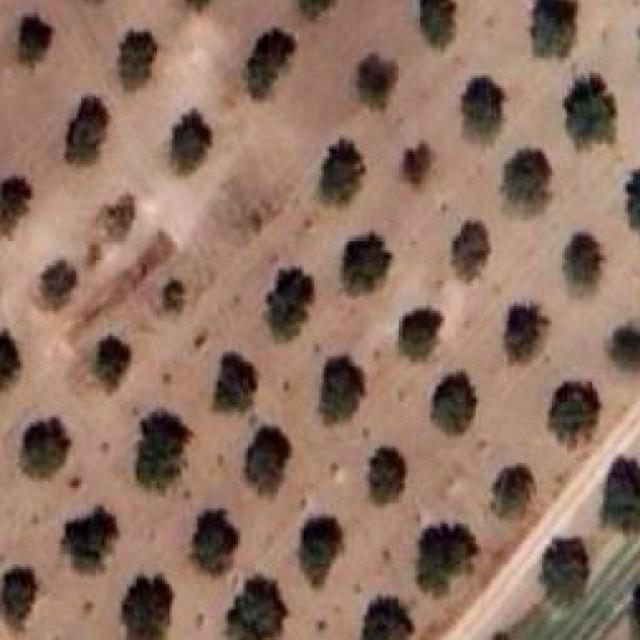Tree: (416, 524, 478, 596), (134, 411, 189, 492), (224, 576, 286, 640), (61, 506, 119, 574), (563, 73, 615, 147), (246, 27, 296, 100), (546, 382, 599, 448), (264, 268, 311, 340), (121, 574, 172, 640), (542, 538, 590, 606), (244, 428, 291, 497), (189, 508, 238, 574), (319, 356, 365, 426), (319, 138, 365, 205), (297, 516, 341, 586), (21, 417, 71, 478), (430, 372, 476, 436), (345, 233, 392, 295), (602, 457, 640, 533), (65, 96, 108, 162), (169, 109, 210, 174), (502, 149, 552, 202), (212, 352, 255, 410), (532, 0, 574, 58), (508, 304, 549, 362), (398, 309, 443, 361), (355, 53, 397, 108), (0, 567, 36, 631), (118, 30, 157, 89), (451, 222, 489, 282), (359, 597, 412, 640), (492, 466, 534, 518), (92, 334, 129, 393), (562, 233, 603, 284), (459, 76, 503, 123), (370, 448, 405, 505), (0, 177, 33, 235), (39, 260, 76, 311), (18, 15, 53, 67), (420, 0, 456, 49), (102, 195, 134, 240), (609, 324, 640, 369), (0, 328, 21, 386), (402, 142, 430, 184), (626, 167, 640, 236), (161, 280, 184, 313), (298, 0, 334, 19), (631, 582, 640, 640), (184, 0, 211, 11), (492, 632, 510, 640)
